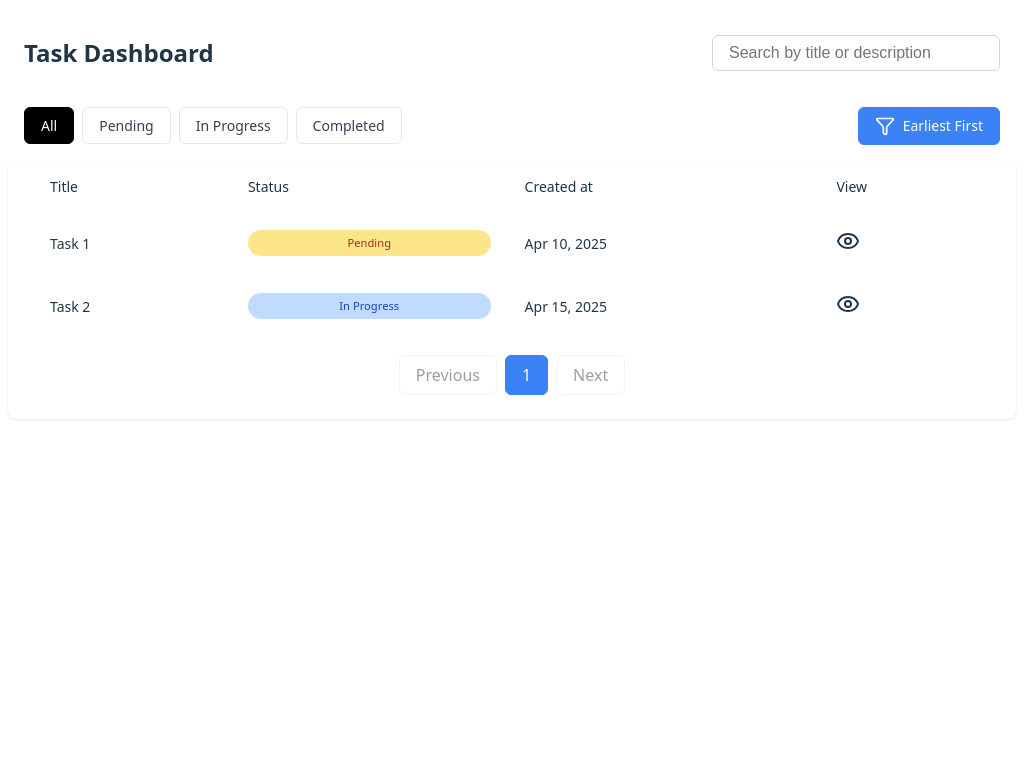
it: Dashboard Component › open Task details Modal
This screenshot has width=1024, height=768.
Check: the text "Task 1" is shown, box [34,212,230,274]
Click on Task 1 to open modal
Click the icon with test id "task-action-1-0".
click(848, 240)  # box [836,228,860,252]
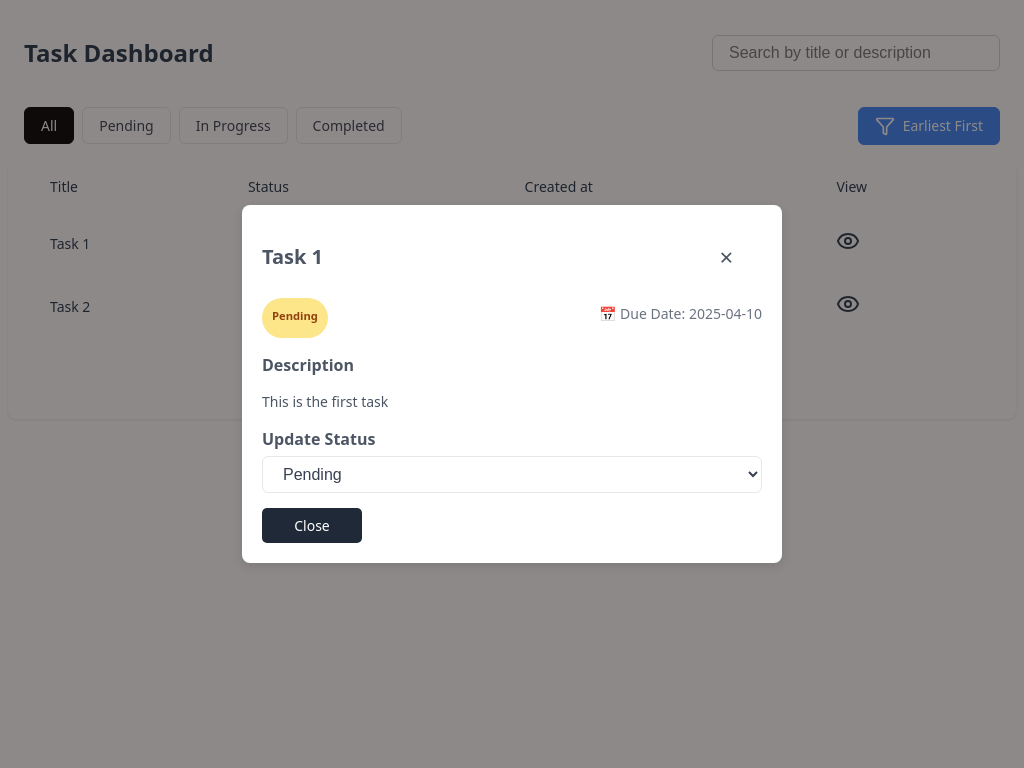
Check: the text "Update Status" is shown, box [262,428,375,450]
